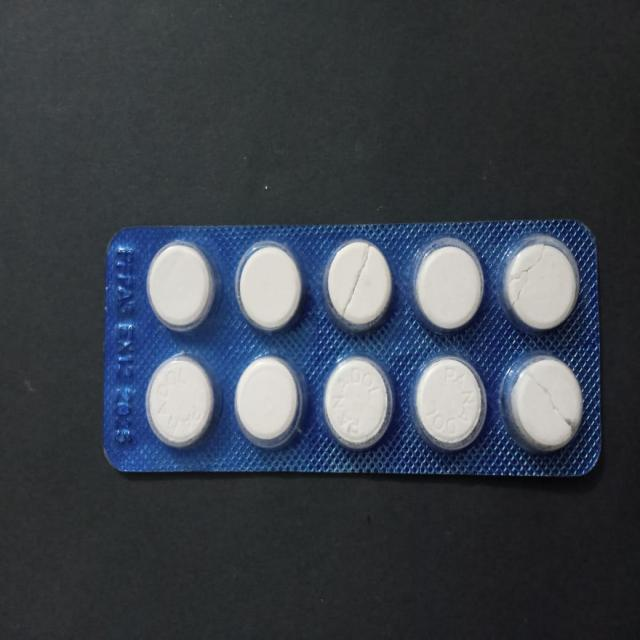defect: (500, 352, 587, 456), (498, 232, 582, 336), (324, 237, 395, 334)
